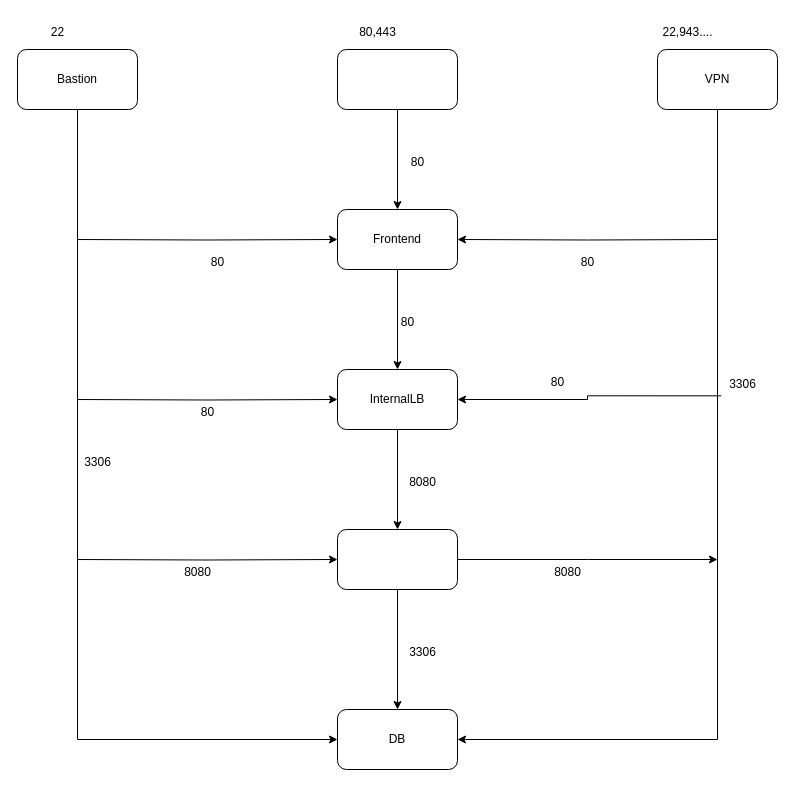
The diagram is 795 pixels wide and 787 high, and some of its shapes have lost their labels. The shapes that lost their labels are listed below. From the top down, each one's centre as x and y in pixels, then its label:
At point 397,79: "ExternalLB".
At point 397,559: "Bckend".
